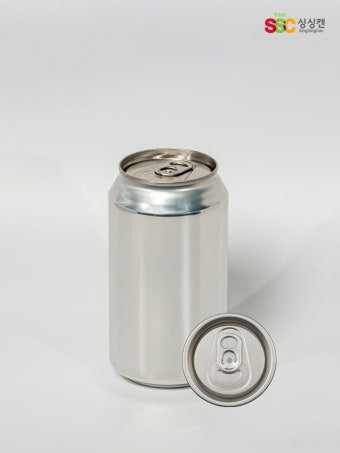paper: (108, 146, 233, 390), (188, 315, 279, 403)
